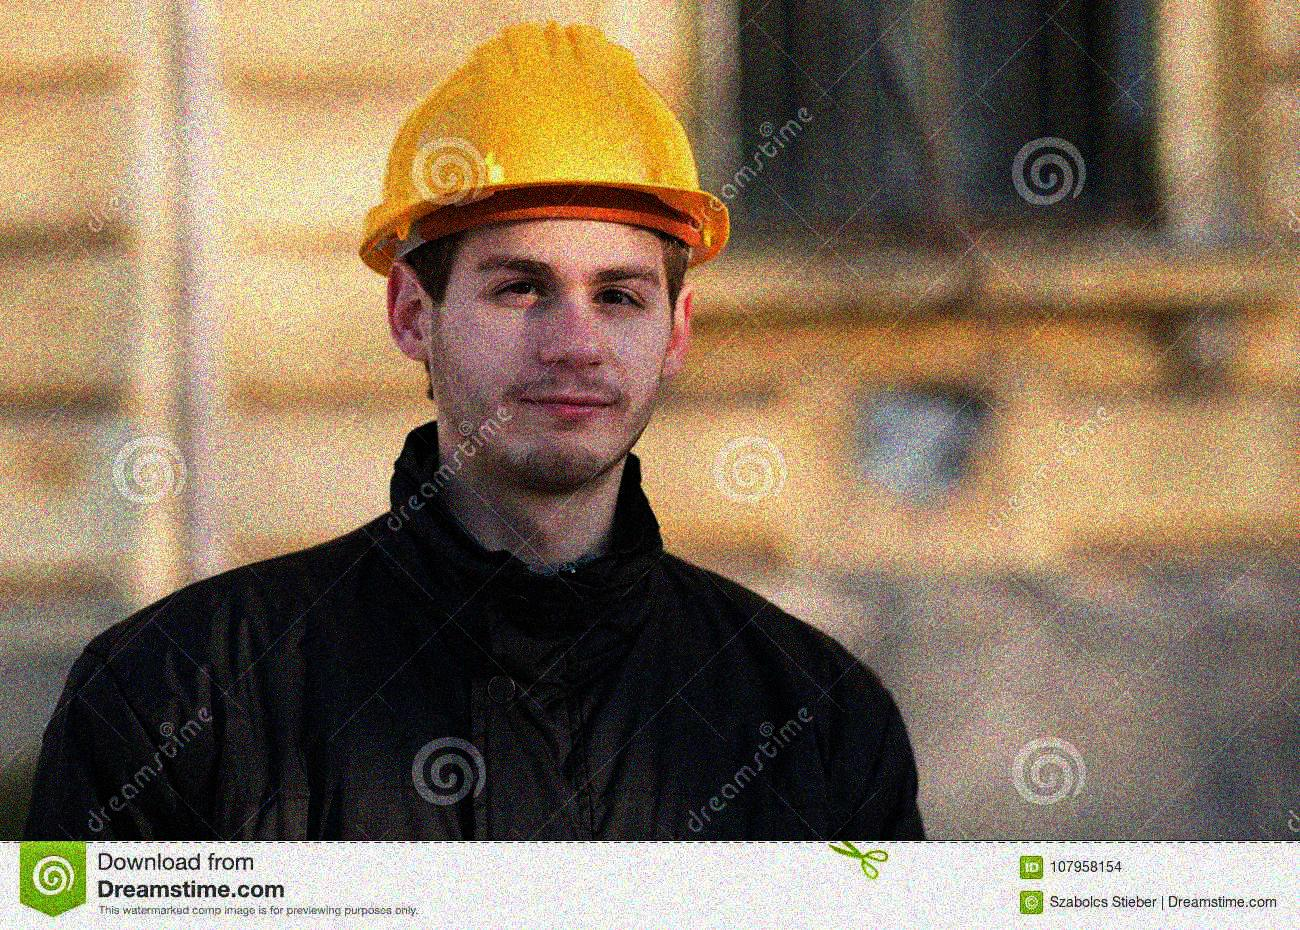helmet: (347, 16, 736, 487)
